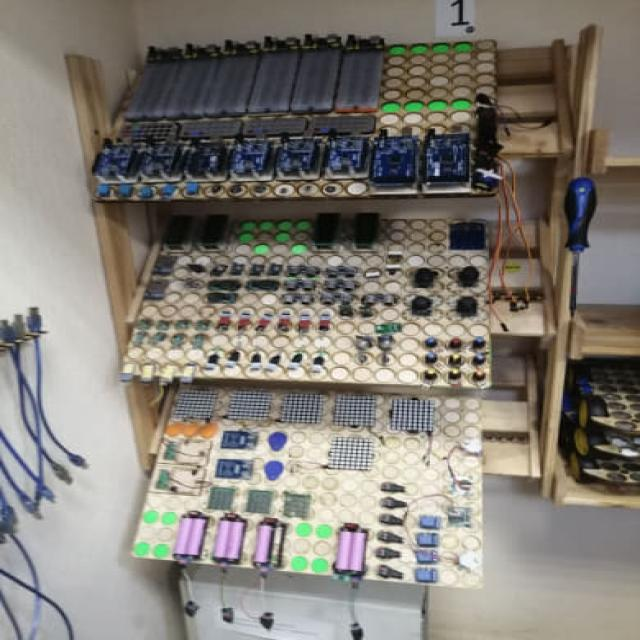Green-circles: (388, 42, 474, 54), (239, 218, 311, 230), (380, 98, 424, 115), (425, 96, 470, 112), (292, 520, 314, 538), (313, 521, 333, 540), (289, 554, 308, 573), (130, 542, 152, 558), (153, 540, 171, 559), (311, 557, 329, 575), (160, 510, 177, 526), (290, 242, 307, 255), (237, 232, 257, 243), (255, 240, 270, 254), (275, 231, 292, 243), (144, 511, 160, 523)
